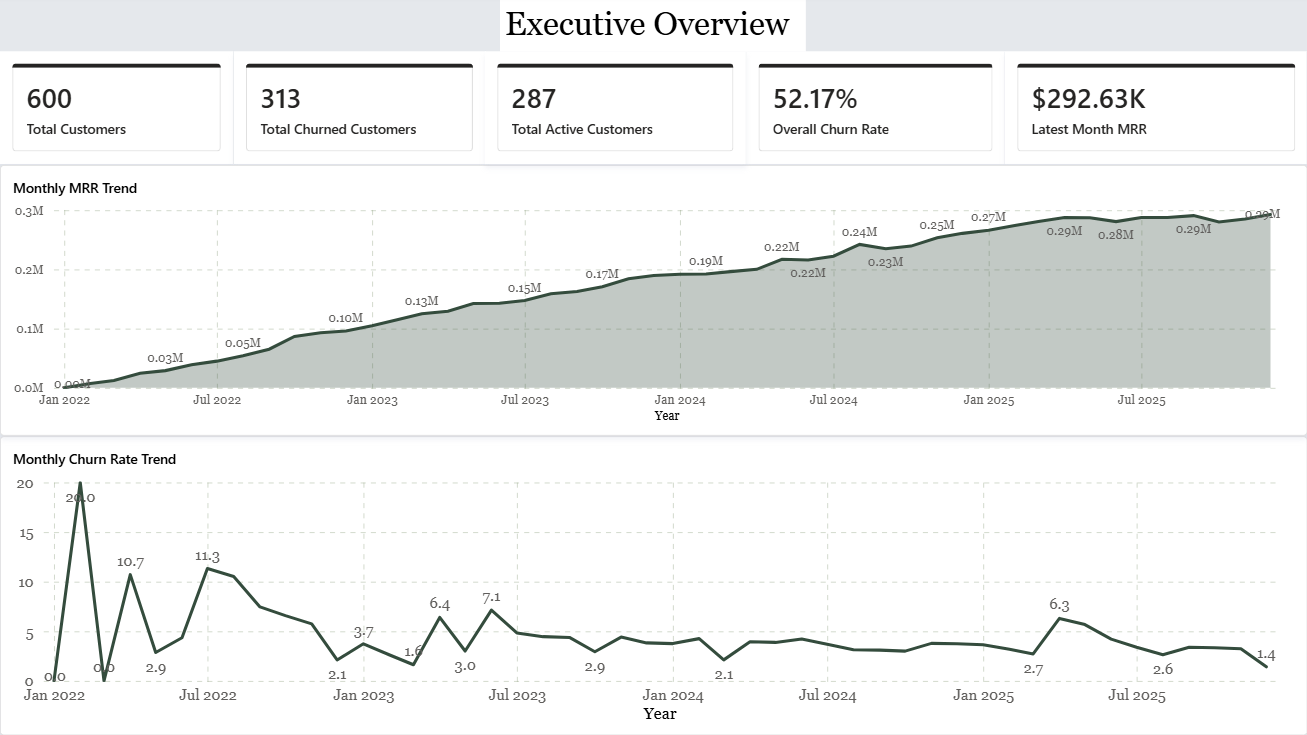

This screenshot's page, from the dashboard's own definition file:
{"tool":"powerbi","page":{"name":"Executive Overview","canvas":[1280,720],"ordinal":0},"visuals":[{"type":"cardVisual","fields":{"Data":["subscriptions_cleaned.Total Customers"]},"box":[0,50.6,228.4,110.8],"z":0},{"type":"cardVisual","fields":{"Data":["subscriptions_cleaned.Total Churned Customers"]},"box":[228.4,50.6,246.2,110.8],"z":1000},{"type":"cardVisual","fields":{"Data":["subscriptions_cleaned.Overall Churn Rate"]},"box":[730.4,50.6,253,110.8],"z":2000},{"type":"cardVisual","fields":{"Data":["monthly_revenue_cleaned.Latest Month MRR"]},"box":[983.5,50.6,296.8,110.8],"z":3000},{"type":"lineChart","title":"Monthly Churn Rate Trend","fields":{"Y":["Sum(monthly_revenue_cleaned.monthly_churn_rate_pct)"],"Category":["monthly_revenue_cleaned.month.Variation.Date Hierarchy.Year","monthly_revenue_cleaned.month.Variation.Date Hierarchy.Quarter","monthly_revenue_cleaned.month.Variation.Date Hierarchy.Month","monthly_revenue_cleaned.month.Variation.Date Hierarchy.Day"]},"box":[0,426.7,1280,293.3],"z":4000},{"type":"lineChart","title":"Monthly MRR Trend","fields":{"Y":["Sum(monthly_revenue_cleaned.total_mrr)"],"Category":["monthly_revenue_cleaned.month.Variation.Date Hierarchy.Year","monthly_revenue_cleaned.month.Variation.Date Hierarchy.Quarter","monthly_revenue_cleaned.month.Variation.Date Hierarchy.Month","monthly_revenue_cleaned.month.Variation.Date Hierarchy.Day"]},"box":[0,161.7,1280,265],"z":5000},{"type":"cardVisual","fields":{"Data":["subscriptions_cleaned.Total Active Customers"]},"box":[474.6,50.6,255.8,110.8],"z":6000},{"type":"textbox","box":[489.7,0,299.6,50.6],"z":7000}]}

Visuals, with their boxes in screenshot pixels (x1, y1, x2, y2), scaled from the page's 1280x720 canvas onto the 1307x735 screenshot:
cardVisual - subscriptions_cleaned.Total Customers: {"x1": 0, "y1": 52, "x2": 233, "y2": 165}
cardVisual - subscriptions_cleaned.Total Churned Customers: {"x1": 233, "y1": 52, "x2": 485, "y2": 165}
cardVisual - subscriptions_cleaned.Overall Churn Rate: {"x1": 746, "y1": 52, "x2": 1004, "y2": 165}
cardVisual - monthly_revenue_cleaned.Latest Month MRR: {"x1": 1004, "y1": 52, "x2": 1306, "y2": 165}
"Monthly Churn Rate Trend" lineChart: {"x1": 0, "y1": 436, "x2": 1306, "y2": 734}
"Monthly MRR Trend" lineChart: {"x1": 0, "y1": 165, "x2": 1306, "y2": 436}
cardVisual - subscriptions_cleaned.Total Active Customers: {"x1": 485, "y1": 52, "x2": 746, "y2": 165}
textbox: {"x1": 500, "y1": 0, "x2": 806, "y2": 52}
